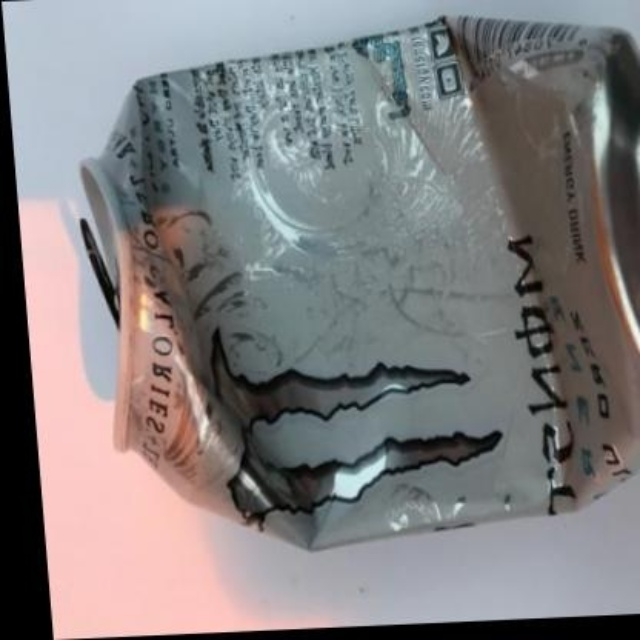trash: (82, 17, 638, 546)
